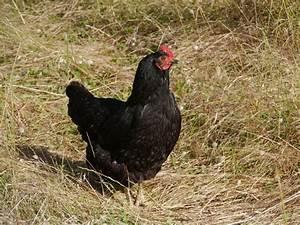hen: (64, 42, 182, 202)
